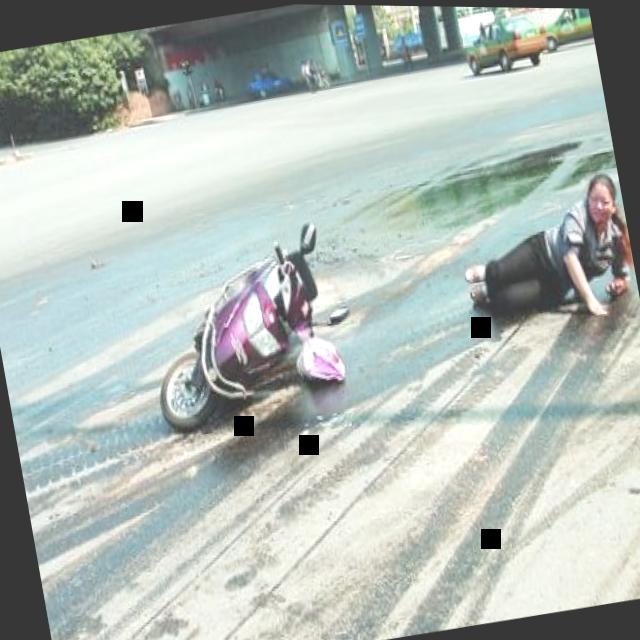Fall-Detected: (444, 154, 640, 345)
